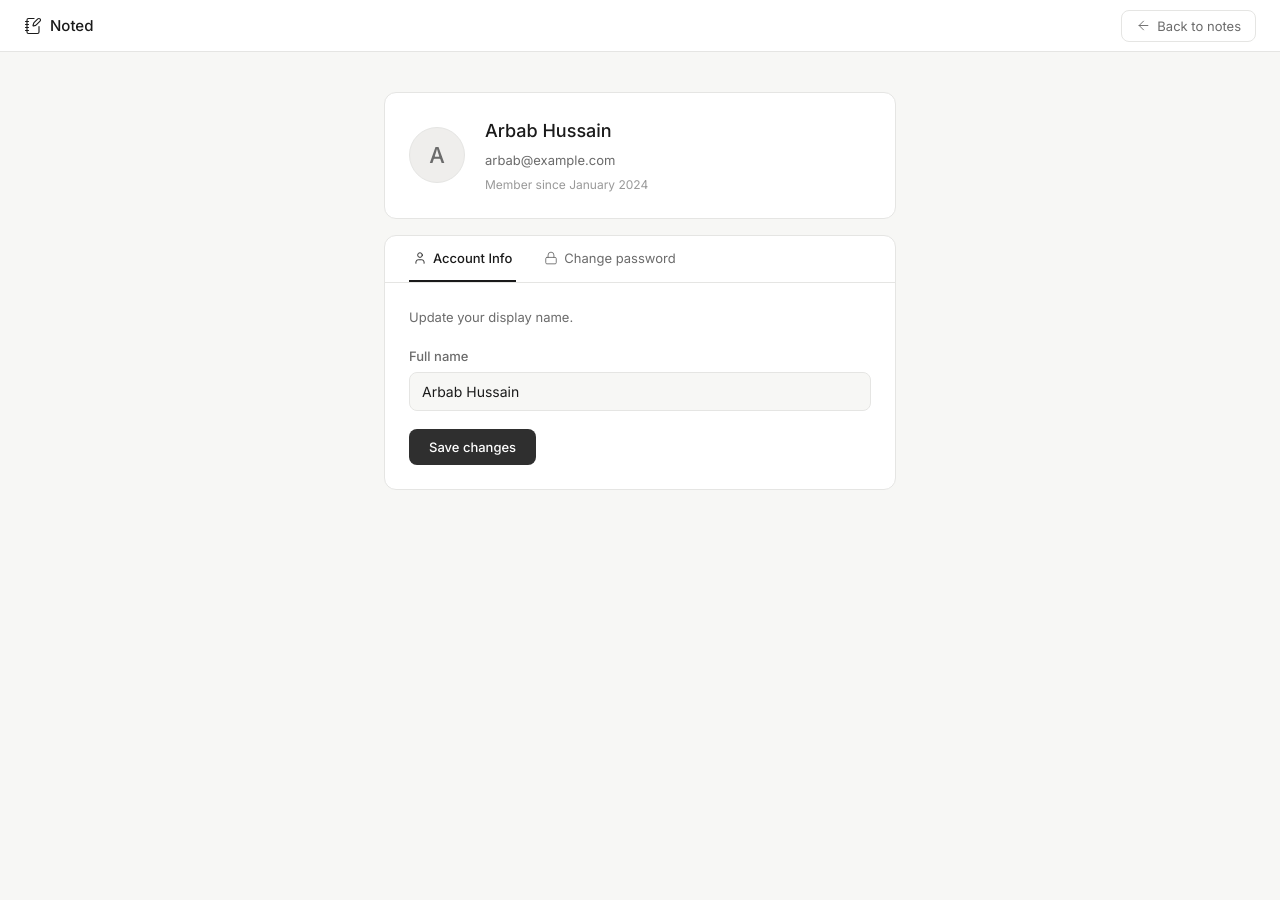
it: Profile Page › should show error when new passwords do not match
Expected: the heading "Arbab Hussain" is shown, [485, 120, 612, 141]
Click the button "Change password" at x=610, y=259, box [540, 236, 680, 282]
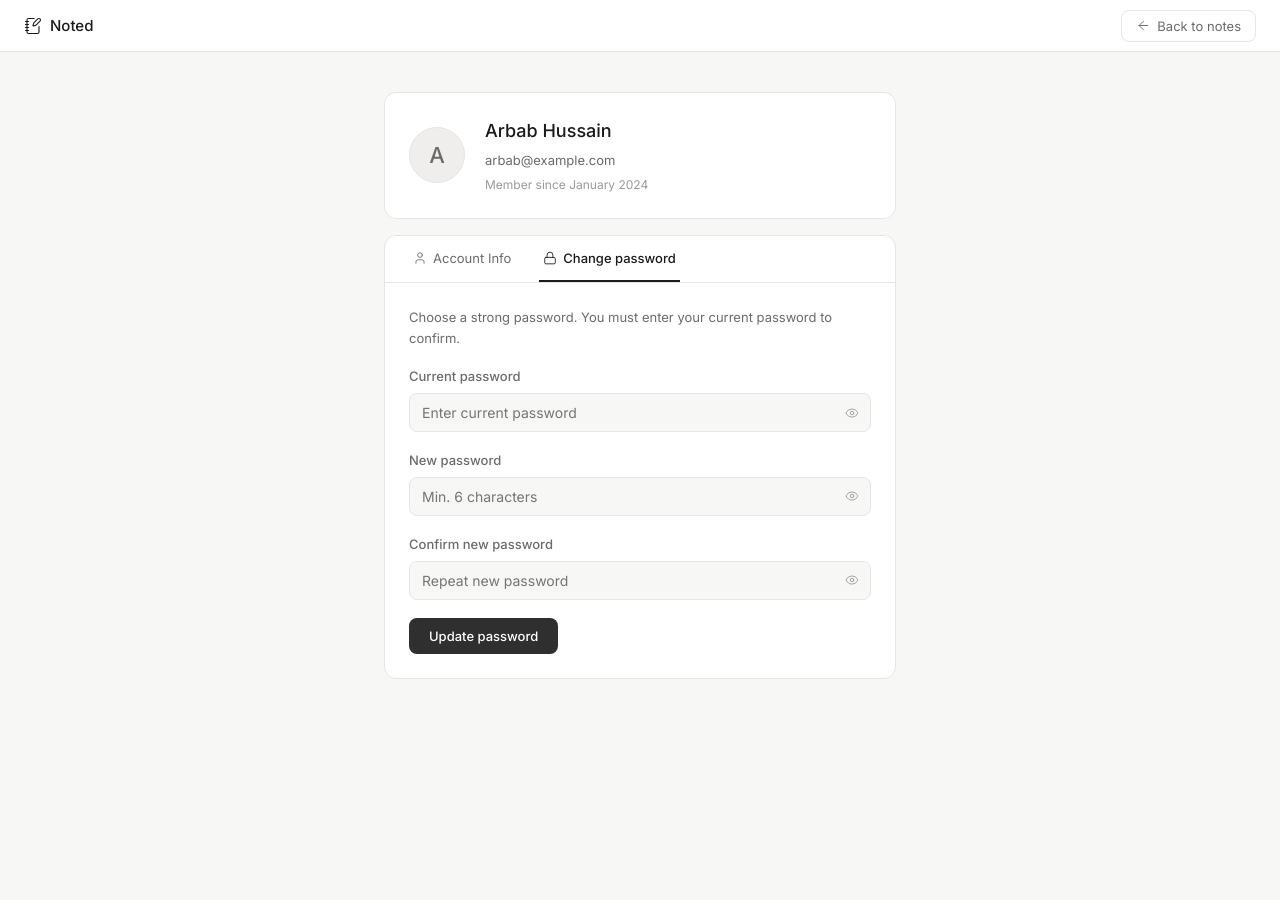
Type "oldpassword" into the password field with placeholder "Enter current password" at x=640, y=413, box [409, 393, 871, 432]
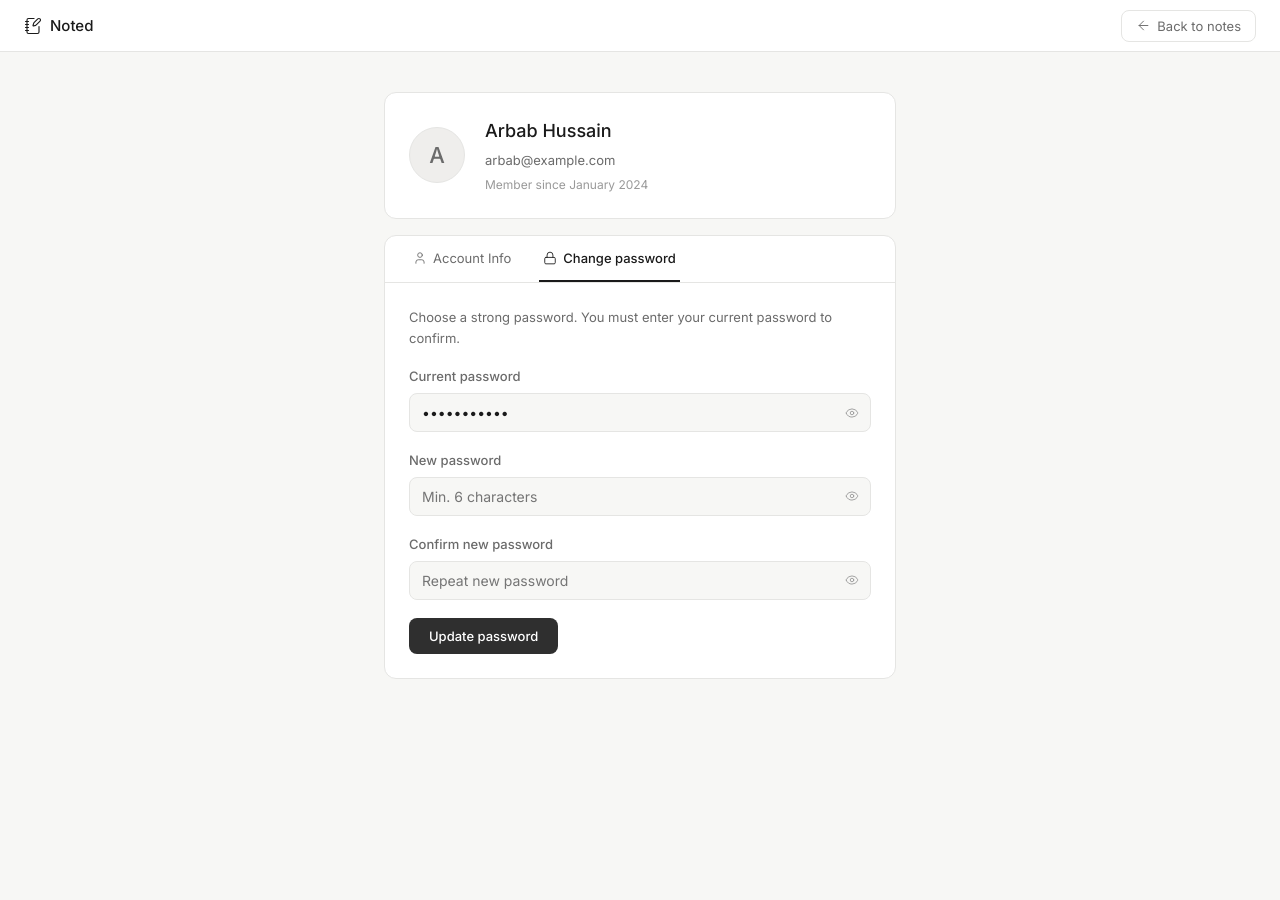
Type "newpassword" into the password field with placeholder "Min. 6 characters" at x=640, y=496, box [409, 477, 871, 516]
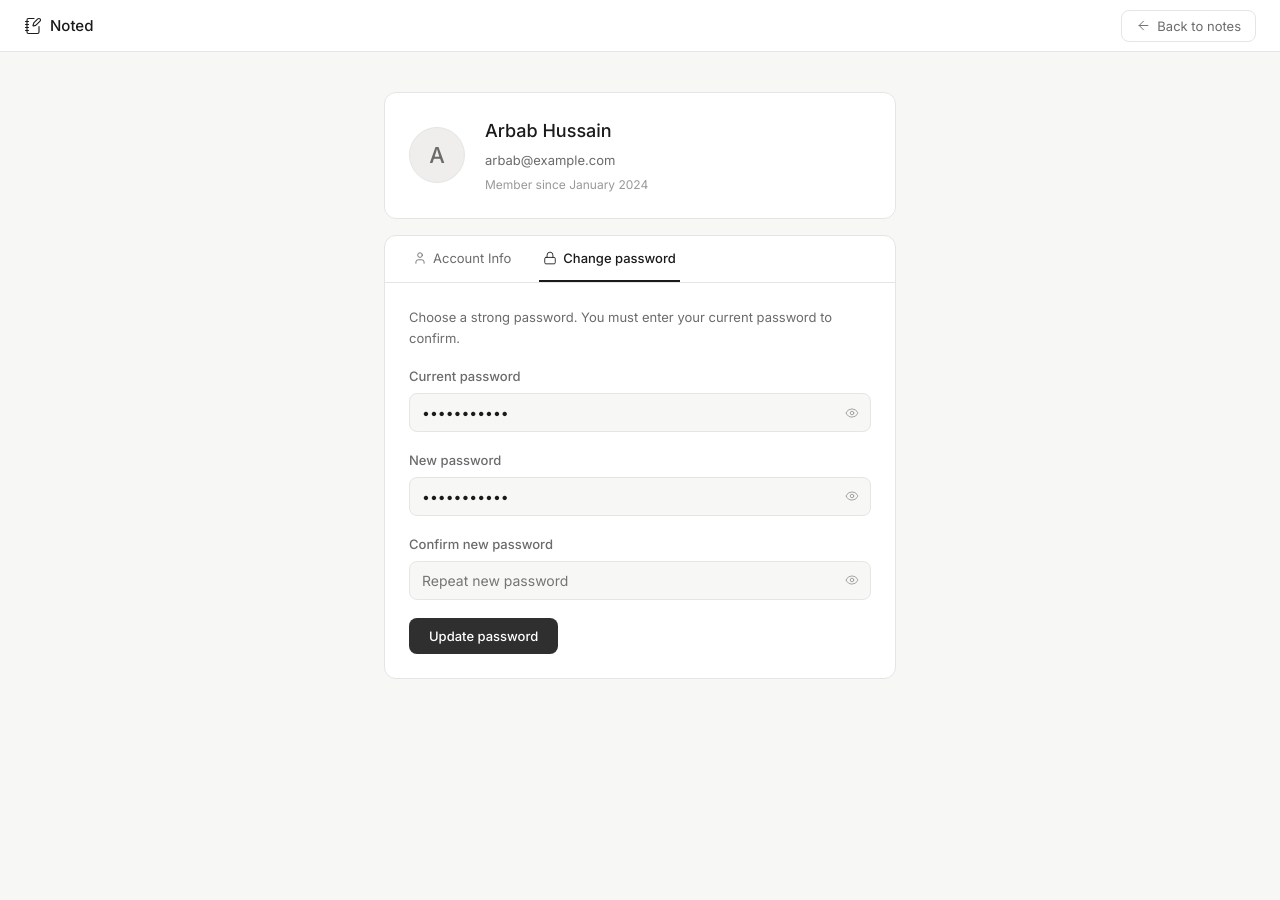
Type "differentpassword" into the password field with placeholder "Repeat new password" at x=640, y=580, box [409, 561, 871, 600]
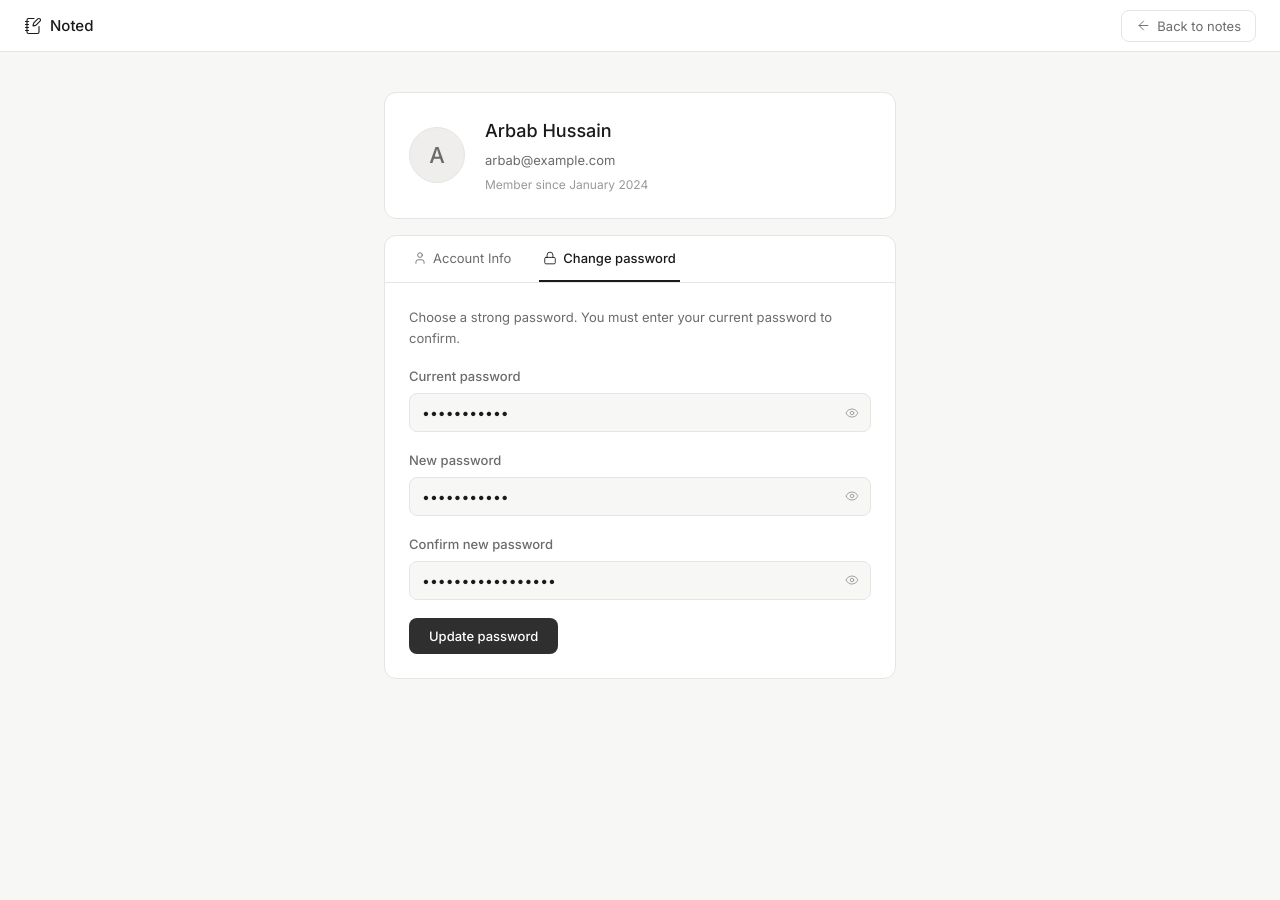
Click the button "Update password" at x=484, y=636, box [409, 618, 558, 654]
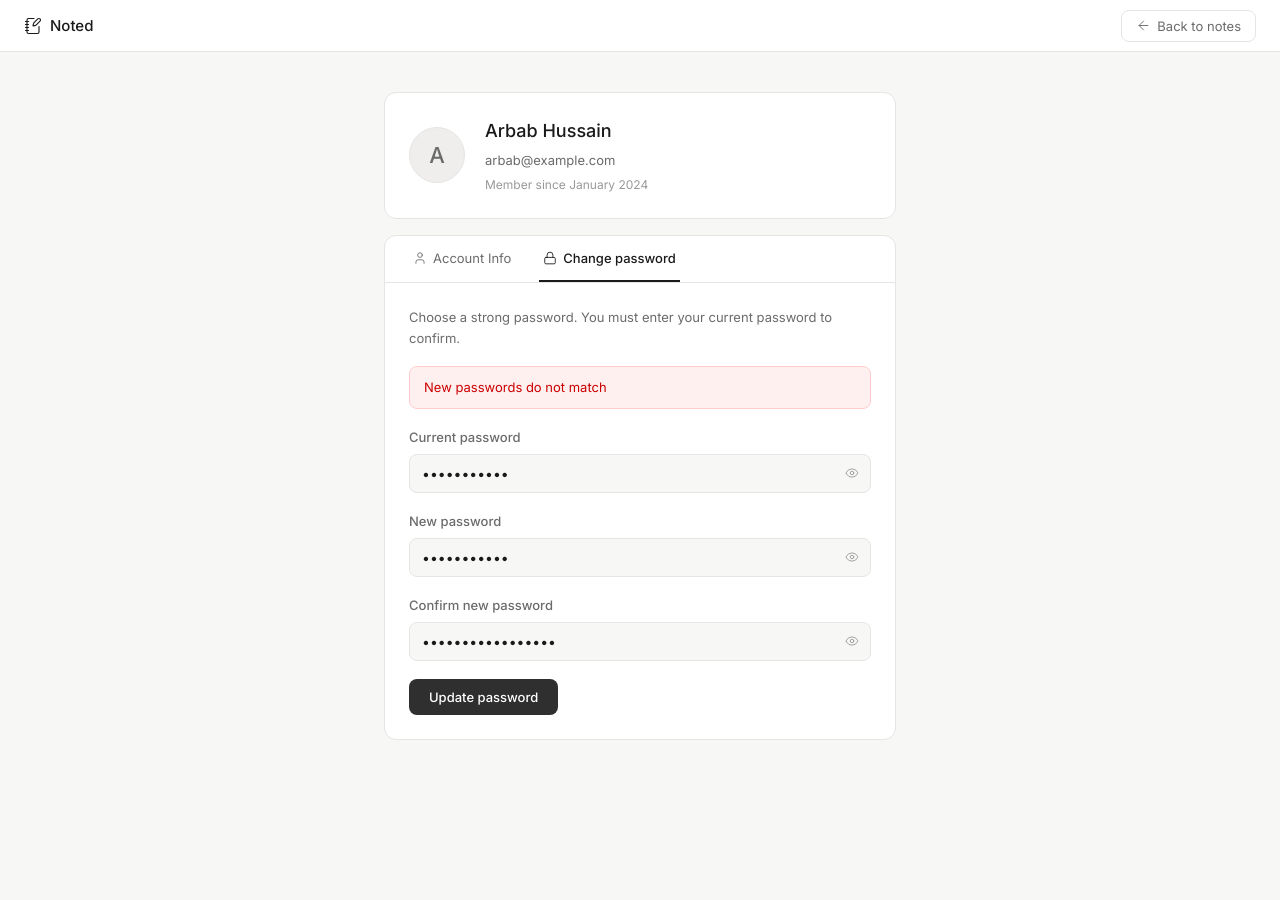
Result: the text "New passwords do not match" is shown at [409, 366, 871, 409]
